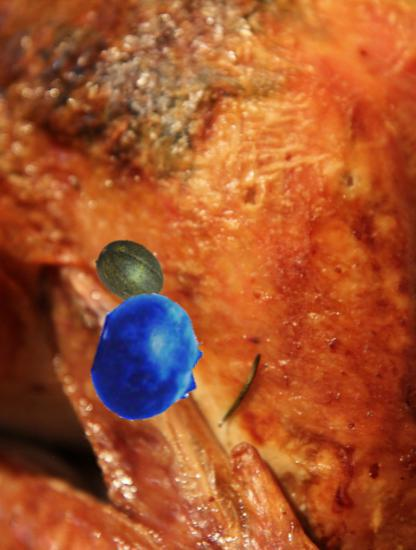Huckleberry: (84, 294, 214, 424)
Melon: (95, 234, 168, 307)
